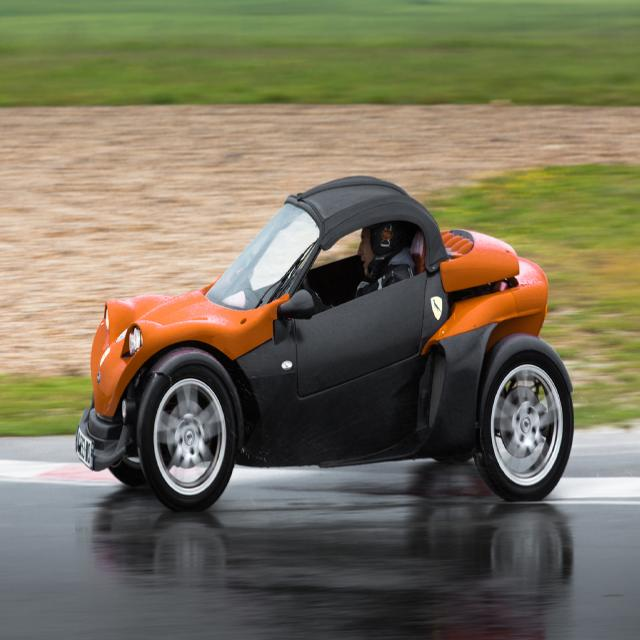car: (73, 174, 573, 514)
